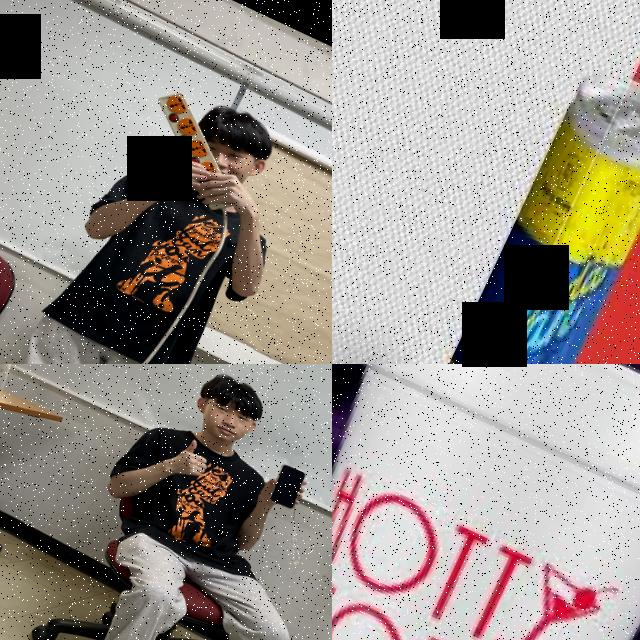can: (384, 57, 640, 364)
cup: (332, 364, 640, 640)
